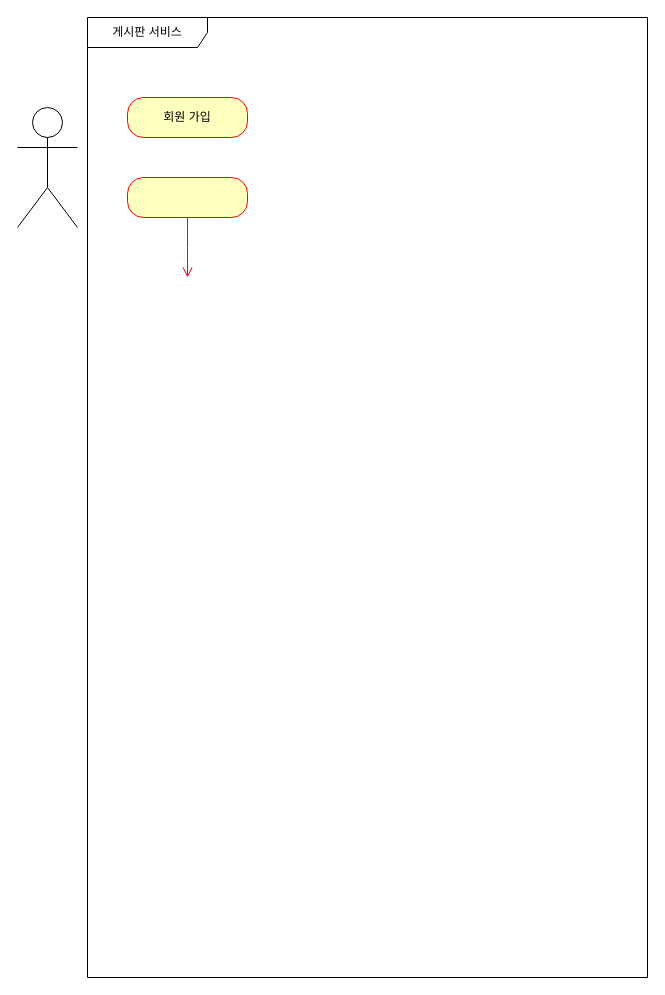
The diagram is 665 pixels wide and 995 high, and some of its shapes have lost their labels. Each missing label, with the box of its shape:
게시판 보기: (126, 176, 248, 218)
이용자: (16, 106, 78, 228)
